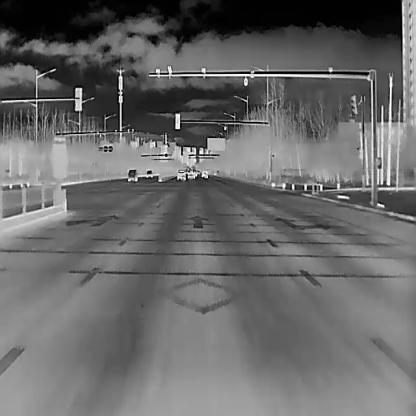car: (126, 169, 137, 181), (176, 169, 185, 180), (187, 169, 195, 178), (200, 169, 208, 176), (146, 169, 153, 177)
